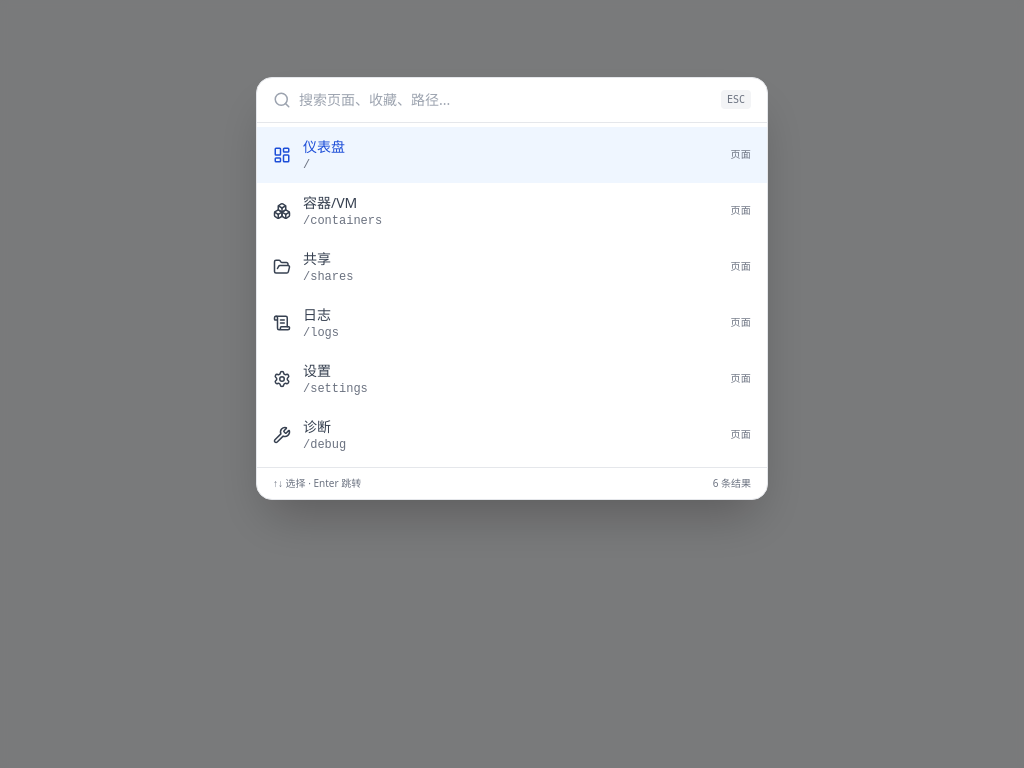
Test: GlobalSearch › 无匹配结果时显示空提示
Type "完全没匹配的关键字" into the field with placeholder "搜索页面、收藏、路径...". click: {"x": 506, "y": 100}
box: [299,90,713,110]
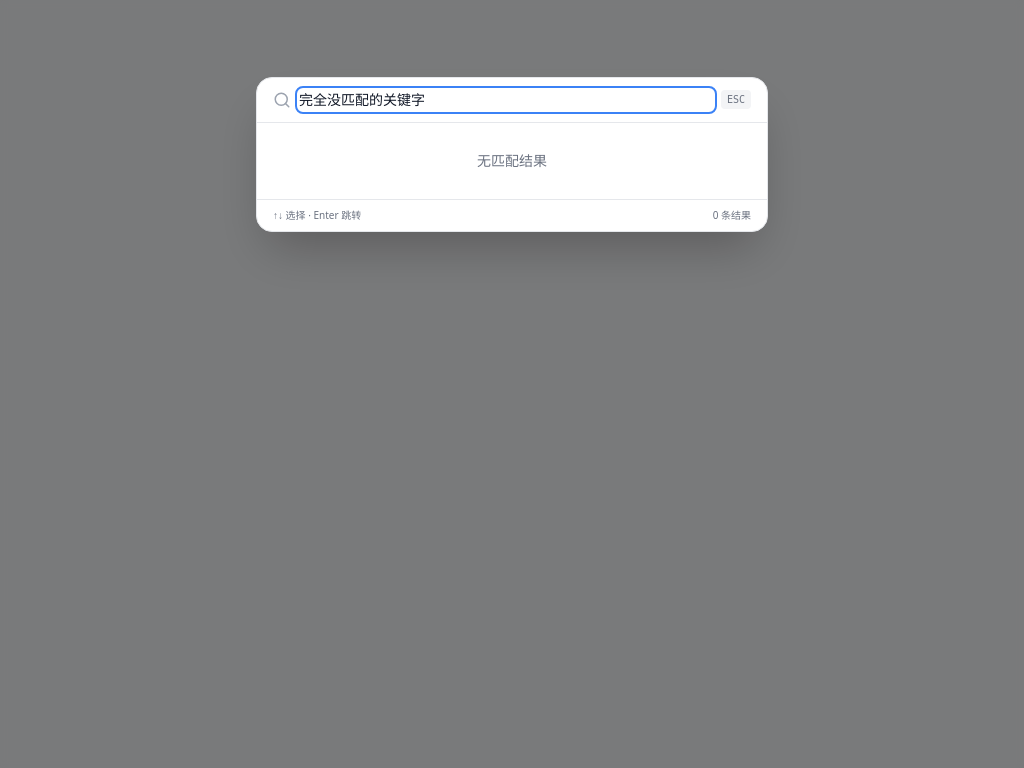
Expected: the list item "无匹配结果" is shown, [477,151,547,170]
